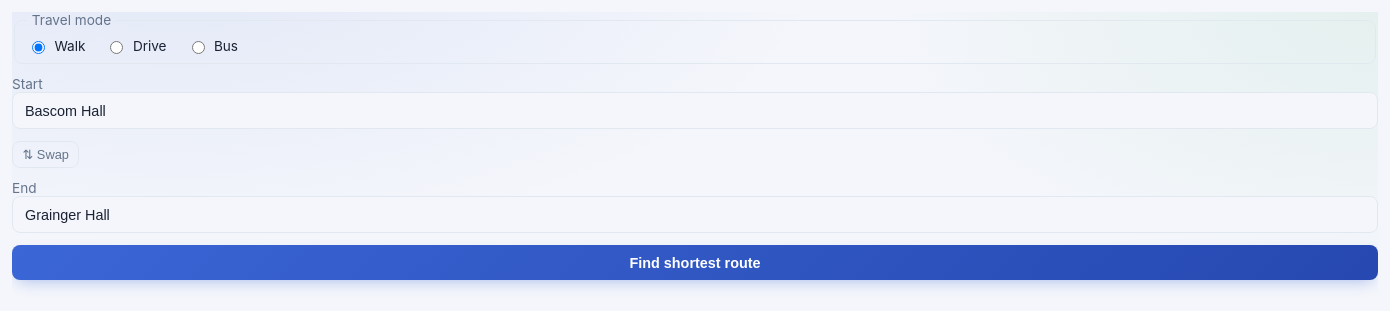
Test case: searchable route locations › selects the active matching place with the keyboard
Replace the text in the dropdown labelled "End" with "grainger". click: (695, 215)
box: 12,196 -> 1378,233
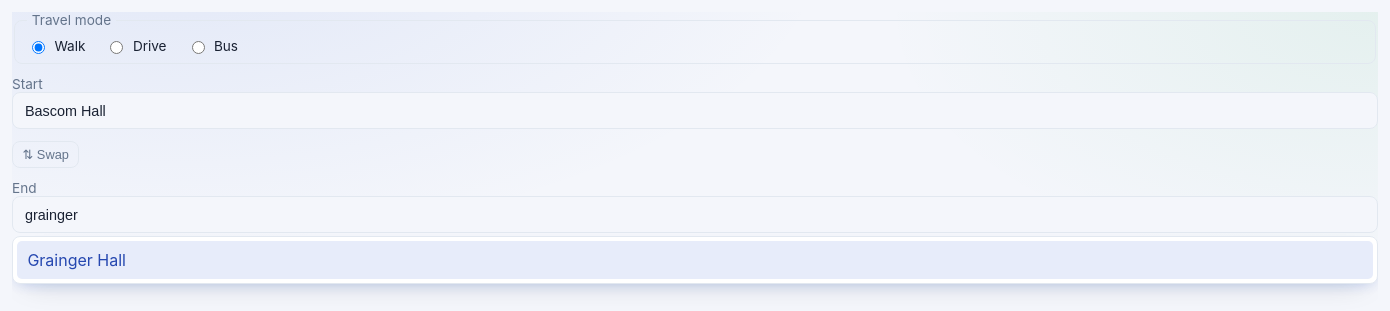
Press Enter in the dropdown labelled "End", box 12,196 -> 1378,233
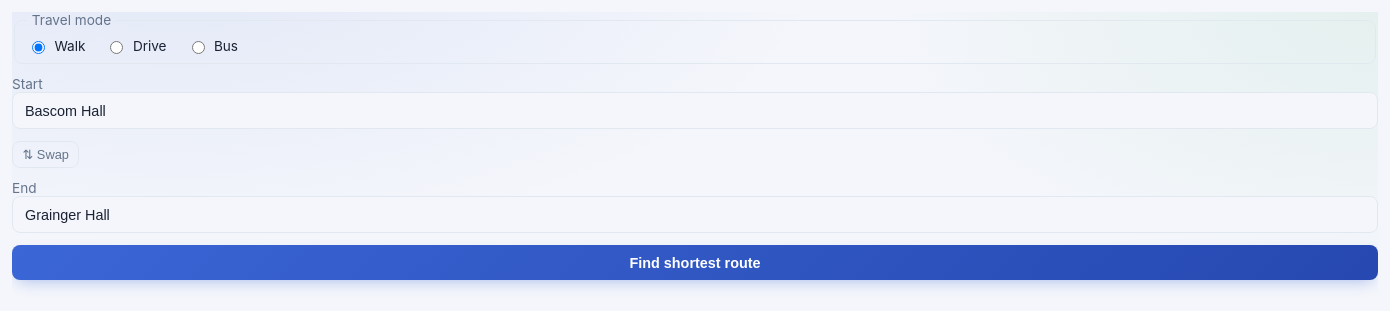
expect the dropdown labelled "End" holds "Grainger Hall": met, box 12,196 -> 1378,233
